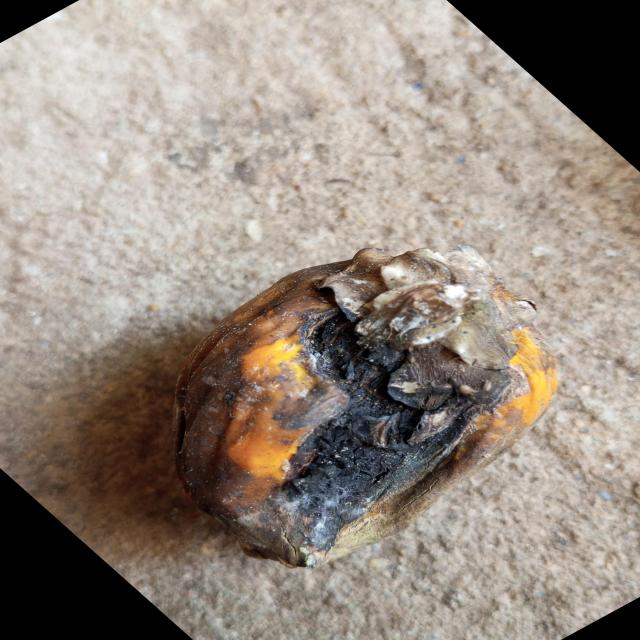damaged: (174, 247, 558, 567)
